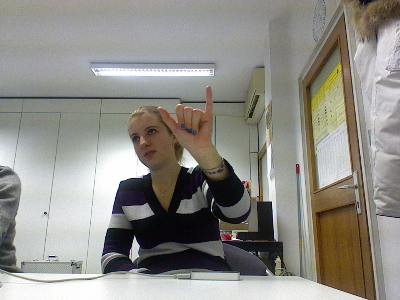六六六: (156, 84, 214, 151)
